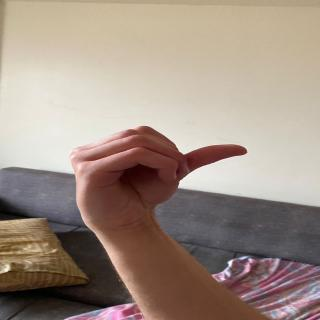WAW: (59, 117, 245, 225)
